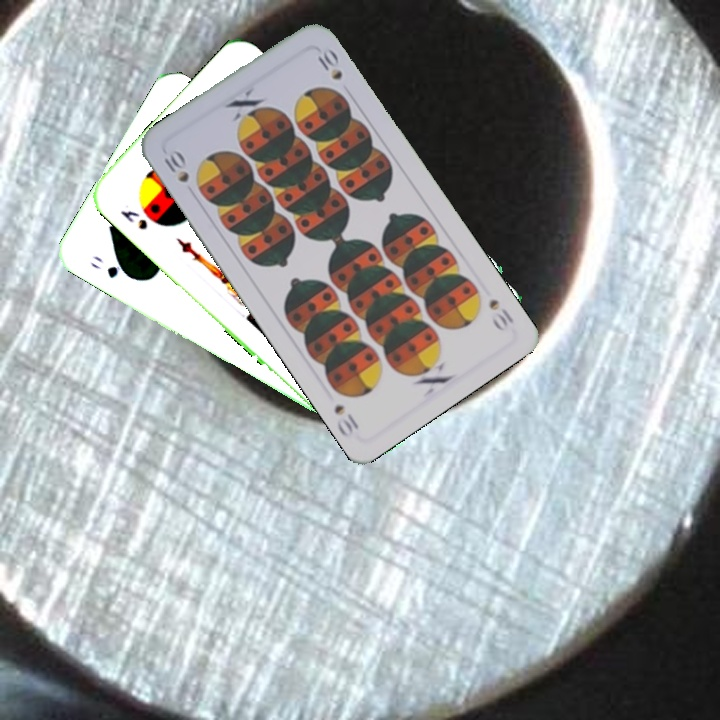GO: (86, 251, 136, 282)
S10: (158, 145, 192, 186), (484, 294, 517, 334)
SK: (116, 206, 151, 233)
